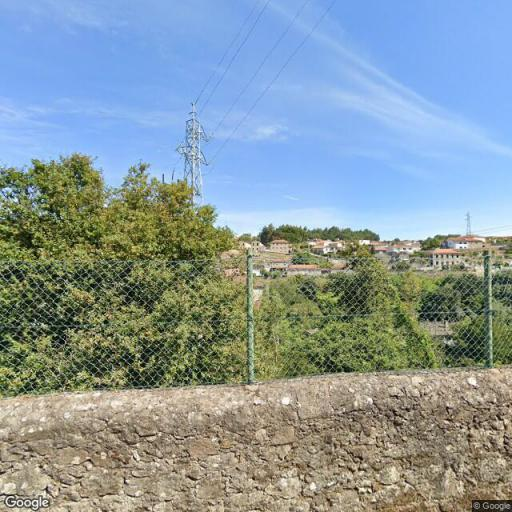ss_4: (174, 102, 212, 217), (464, 210, 473, 238)
